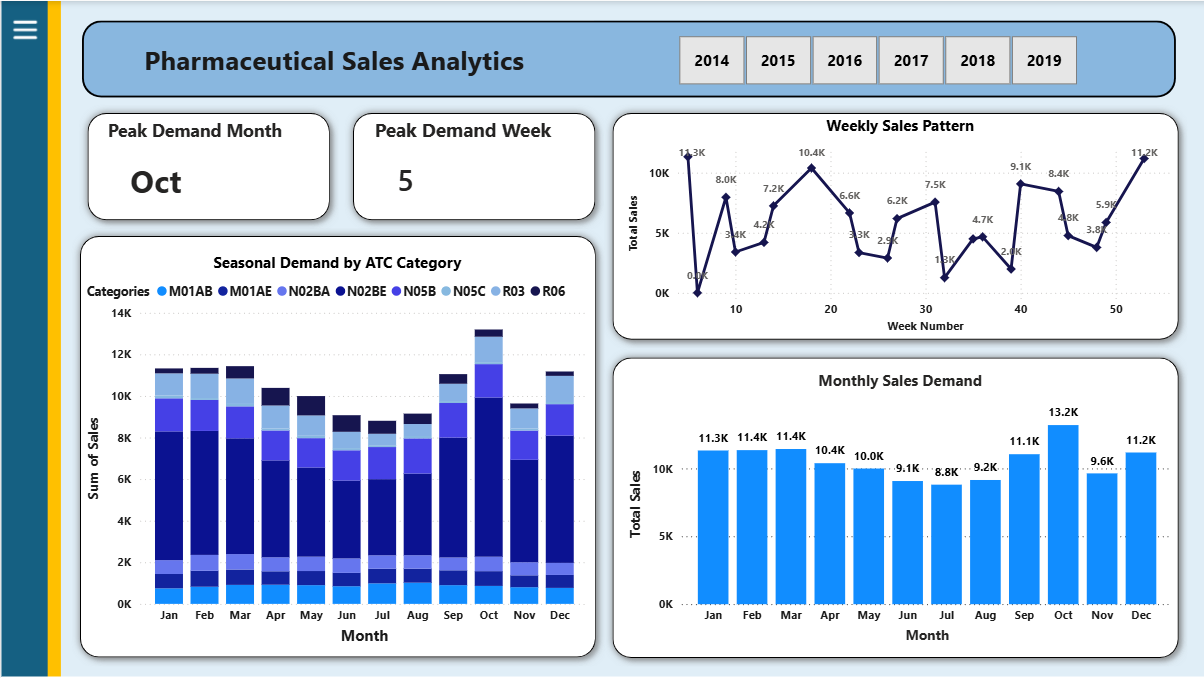

The page's visual inventory and layout, read from the dashboard file:
{"tool":"powerbi","page":{"name":"Time & Seasonality","canvas":[1280,720],"ordinal":2},"visuals":[{"type":"shape","box":[75,240,565,465],"z":0},{"type":"columnChart","title":"Seasonal Demand by ATC Category","fields":{"Category":["DateTable.Month Name"],"Y":["Sum(SalesMonthly.Sales)"],"Series":["SalesMonthly.Category"]},"box":[86.7,265,541.7,421.7],"z":1000},{"type":"actionButton","title":"Menu Button","box":[7.8,13.3,35.6,35.6],"z":2000,"group":"g1"},{"type":"shape","box":[83.3,110,275,131.7],"z":2000},{"type":"cardVisual","title":"Peak Demand Month","fields":{"Data":["DateTable.Peak Month"]},"box":[108.3,123.3,225,105],"z":3000},{"type":"shape","box":[86,20,1160,81.7],"z":4000},{"type":"shape","box":[640,368.3,618.3,336.7],"z":5000},{"type":"shape","box":[365,110,275,131.7],"z":6000},{"type":"shape","box":[640,110,618.3,258.3],"z":7000},{"type":"group","id":"g1","title":"Menu Bar","box":[7.8,13.3,35.6,35.6],"z":9000},{"type":"clusteredColumnChart","title":"Monthly Sales Demand","fields":{"Y":["DateTable.Total Sales"],"Category":["DateTable.Month Name"]},"box":[660,391.7,586.7,295],"z":10000},{"type":"lineChart","title":"Weekly Sales Pattern","fields":{"Category":["DateTable.Week Number"],"Y":["DateTable.Total Sales"]},"box":[659.4,120.3,587,236.2],"z":11000},{"type":"cardVisual","title":"Peak Demand Week","fields":{"Data":["DateTable.Peak Week"]},"box":[391.3,123.2,237.7,104.3],"z":12000},{"type":"slicer","fields":{"Values":["DateTable.Year_Clean"]},"box":[692.8,30.4,471,65.2],"z":13000}]}

Visuals, with their boxes in screenshot pixels (x1, y1, x2, y2), scaled from the page's 1280x720 canvas onto the 1204x678 screenshot:
shape: select_region(71, 226, 602, 664)
"Seasonal Demand by ATC Category" columnChart: select_region(82, 250, 591, 647)
"Menu Button" actionButton: select_region(7, 13, 41, 46)
shape: select_region(78, 104, 337, 228)
"Peak Demand Month" cardVisual: select_region(102, 116, 314, 215)
shape: select_region(81, 19, 1172, 96)
shape: select_region(602, 347, 1184, 664)
shape: select_region(343, 104, 602, 228)
shape: select_region(602, 104, 1184, 347)
"Menu Bar" group: select_region(7, 13, 41, 46)
"Monthly Sales Demand" clusteredColumnChart: select_region(621, 369, 1173, 647)
"Weekly Sales Pattern" lineChart: select_region(620, 113, 1172, 336)
"Peak Demand Week" cardVisual: select_region(368, 116, 592, 214)
slicer - DateTable.Year_Clean: select_region(652, 29, 1095, 90)
